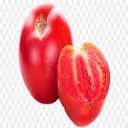tomato: (19, 1, 74, 104), (57, 42, 109, 126)
